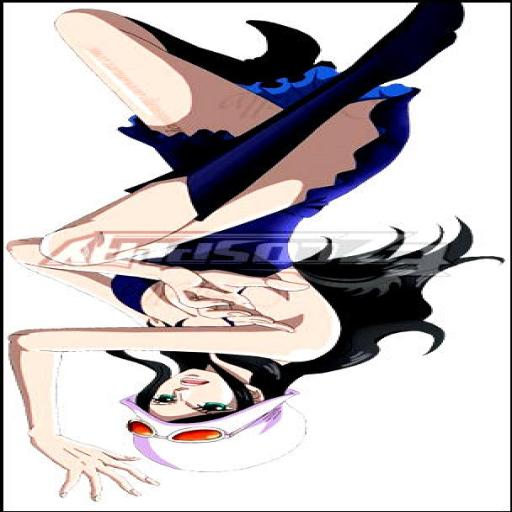NicoRobin: (8, 4, 502, 502)
